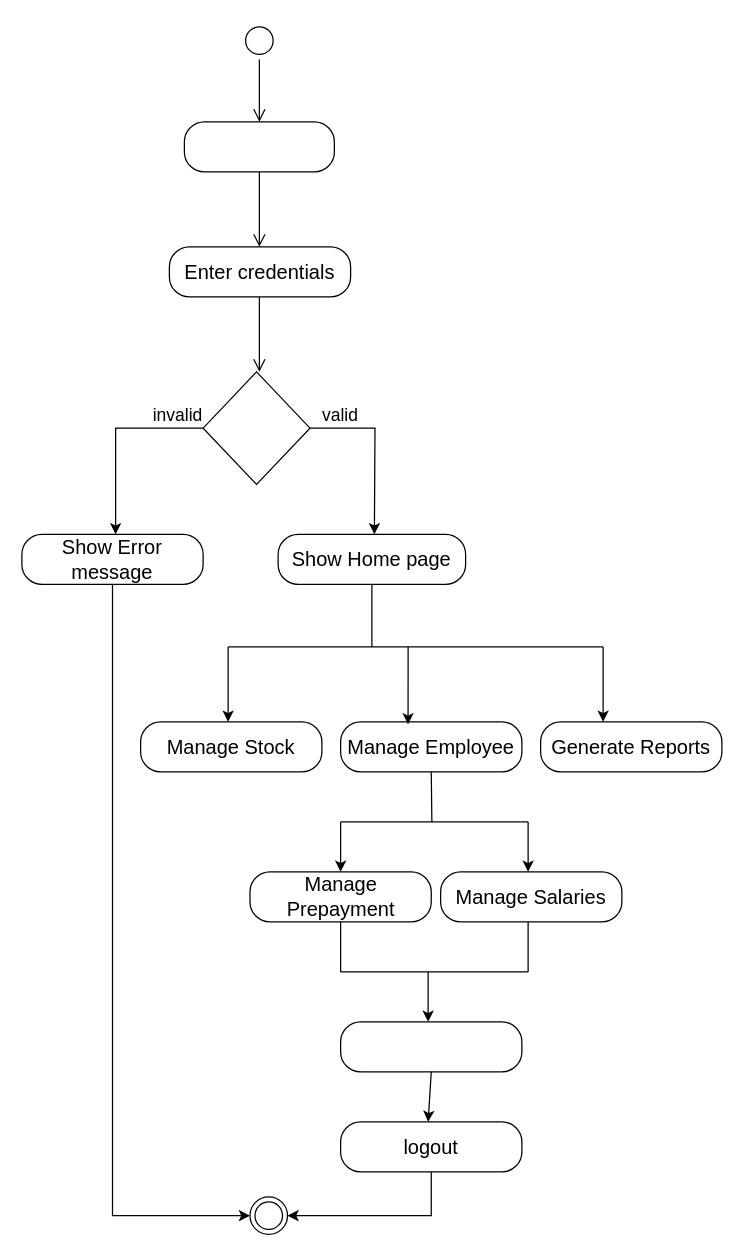
This 744x1256 diagram has some shape labels left out. Here are the shapes that lost their labels. From the top down, the centre of each, then its label:
the point at 258,146: login form
the point at 256,427: checking
the point at 430,1046: vouchers
